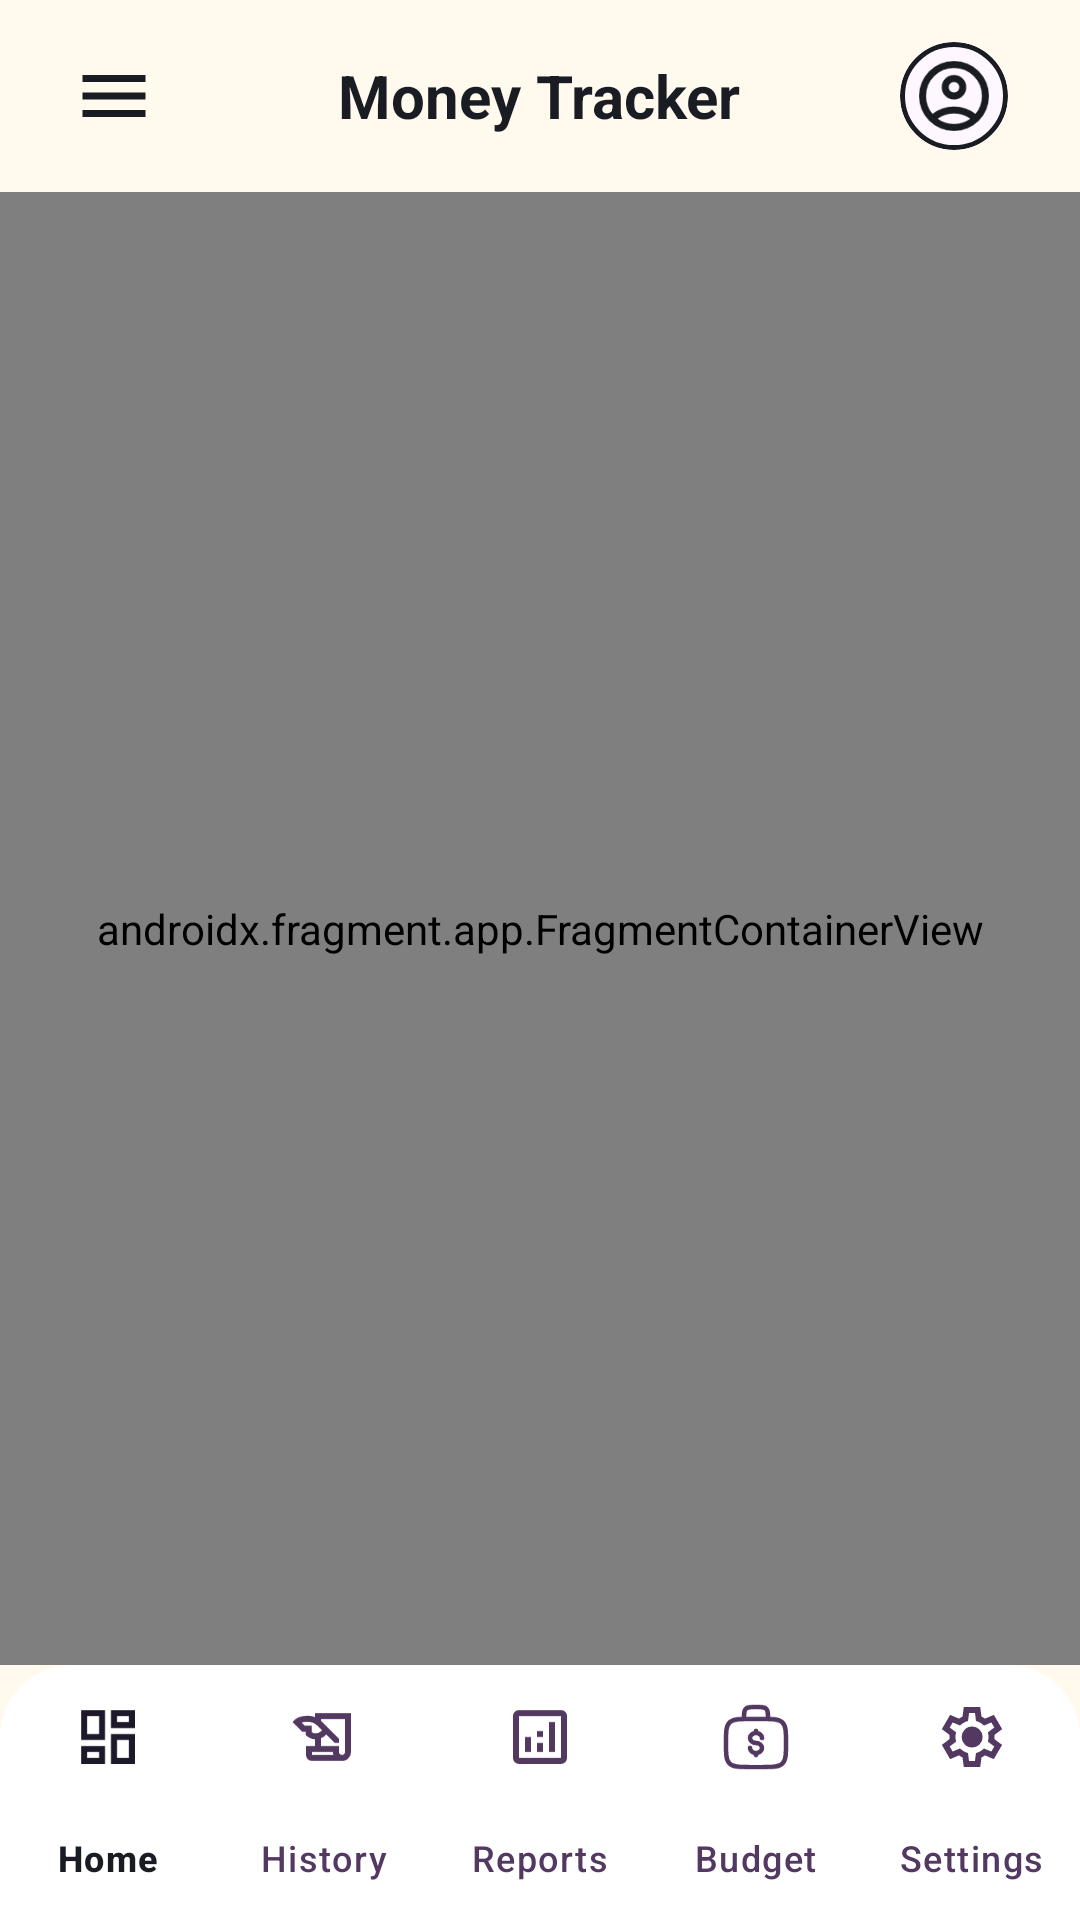

Icons on this 1080 × 1920 Android screen, each with the point to tap as point (x, y):
menu: point (114, 96)
profile: point (954, 96)
